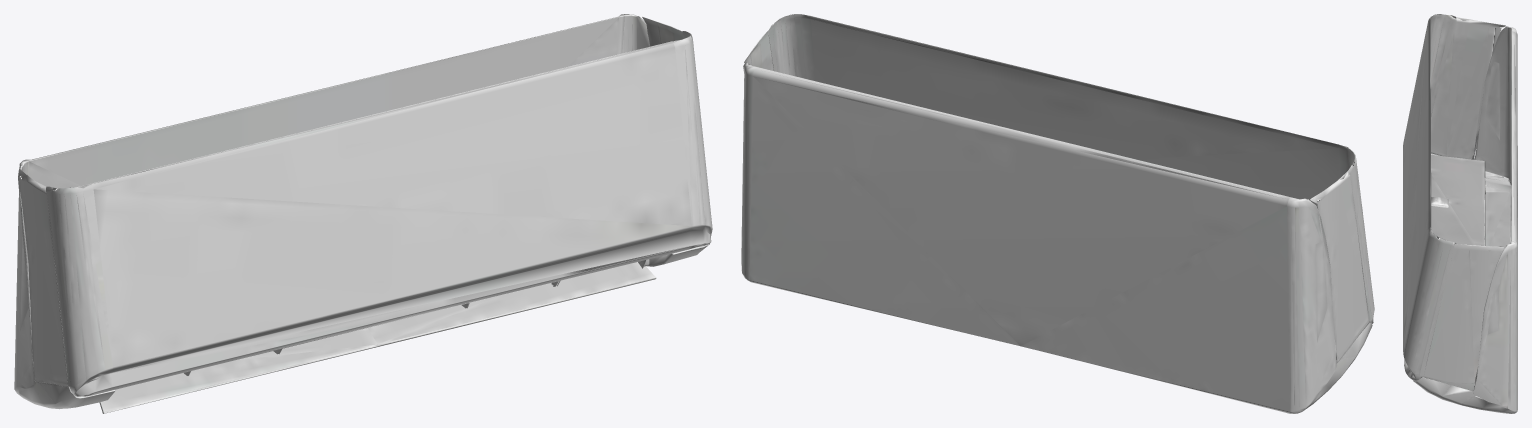
Rendered from aircon.glb.
The picture shows the model from 3 angles, left to right: view 1: azimuth 30°, elevation 25°; view 2: azimuth 150°, elevation 25°; view 3: azimuth 270°, elevation 25°; orthographic projection. The views are drawn at different scales.
Bounding box in the file's own units: 0.9546 × 0.3594 × 0.204.
1 material, 1 textured.
